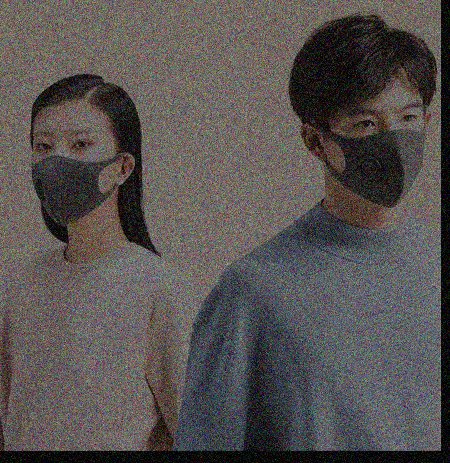with_mask: (327, 98, 426, 206), (31, 122, 117, 225)
